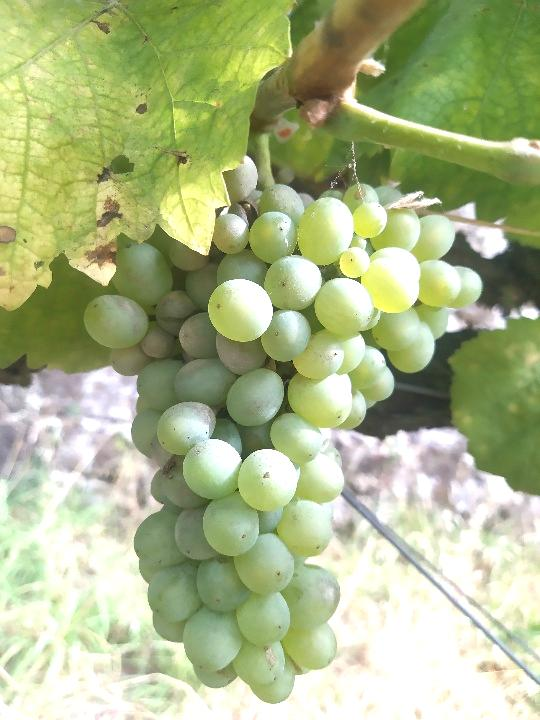grape: (78, 154, 486, 706)
